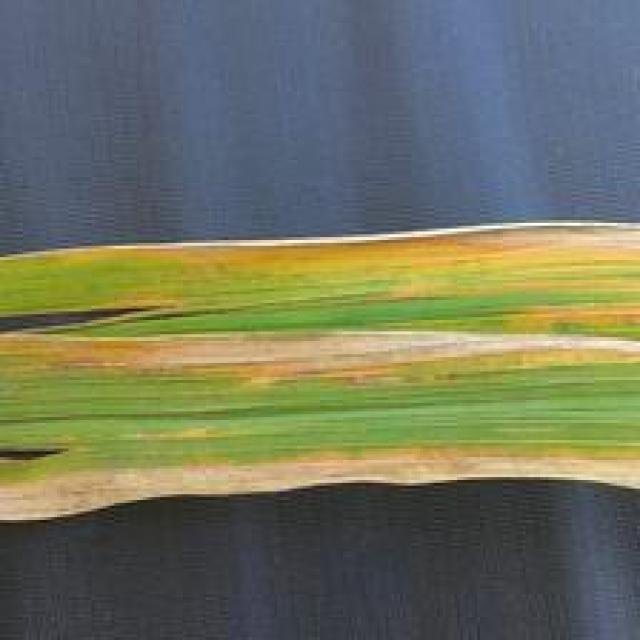Bacterial_Leaf_Blight: (15, 223, 634, 494)
